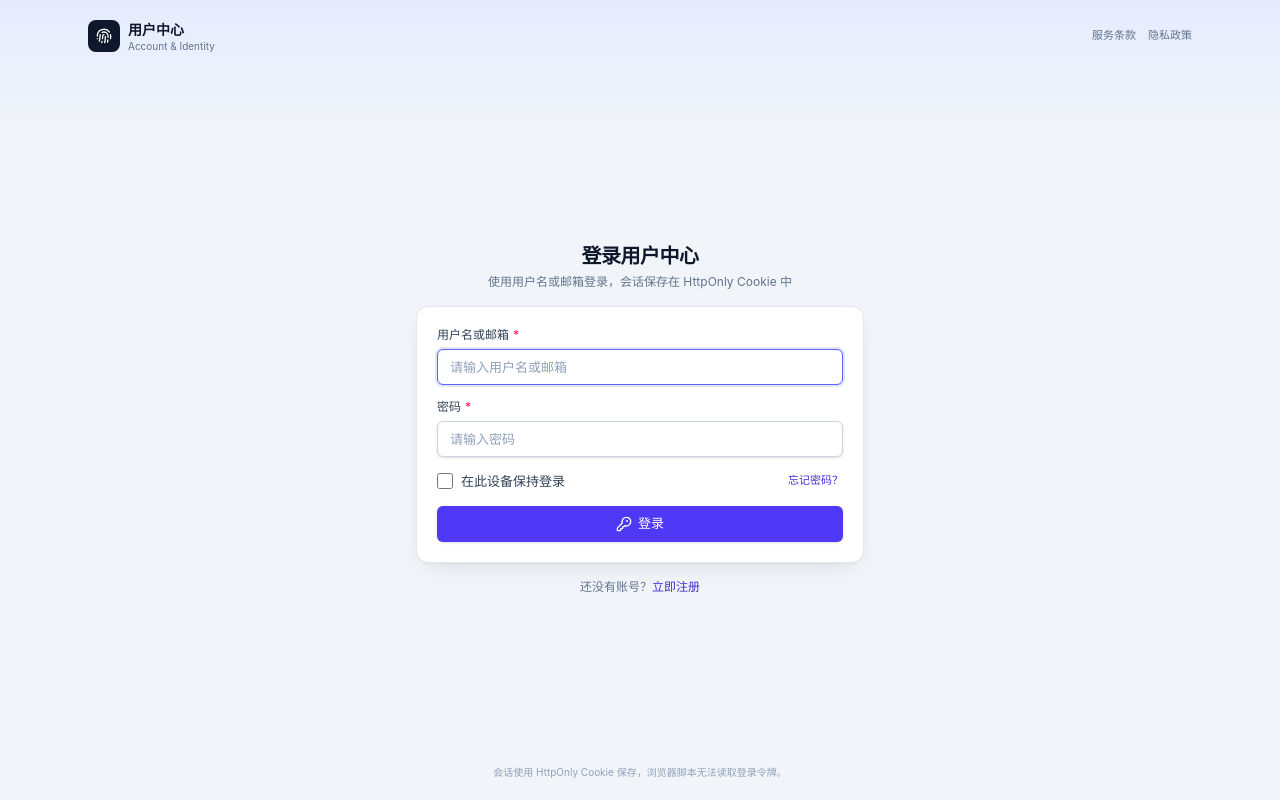
Test: recycled session feedback › is shown when the password login reclaims sessions
Step 1. Type "alice" into the field labelled "用户名或邮箱 *" → (640, 367), box [437,349,843,385]
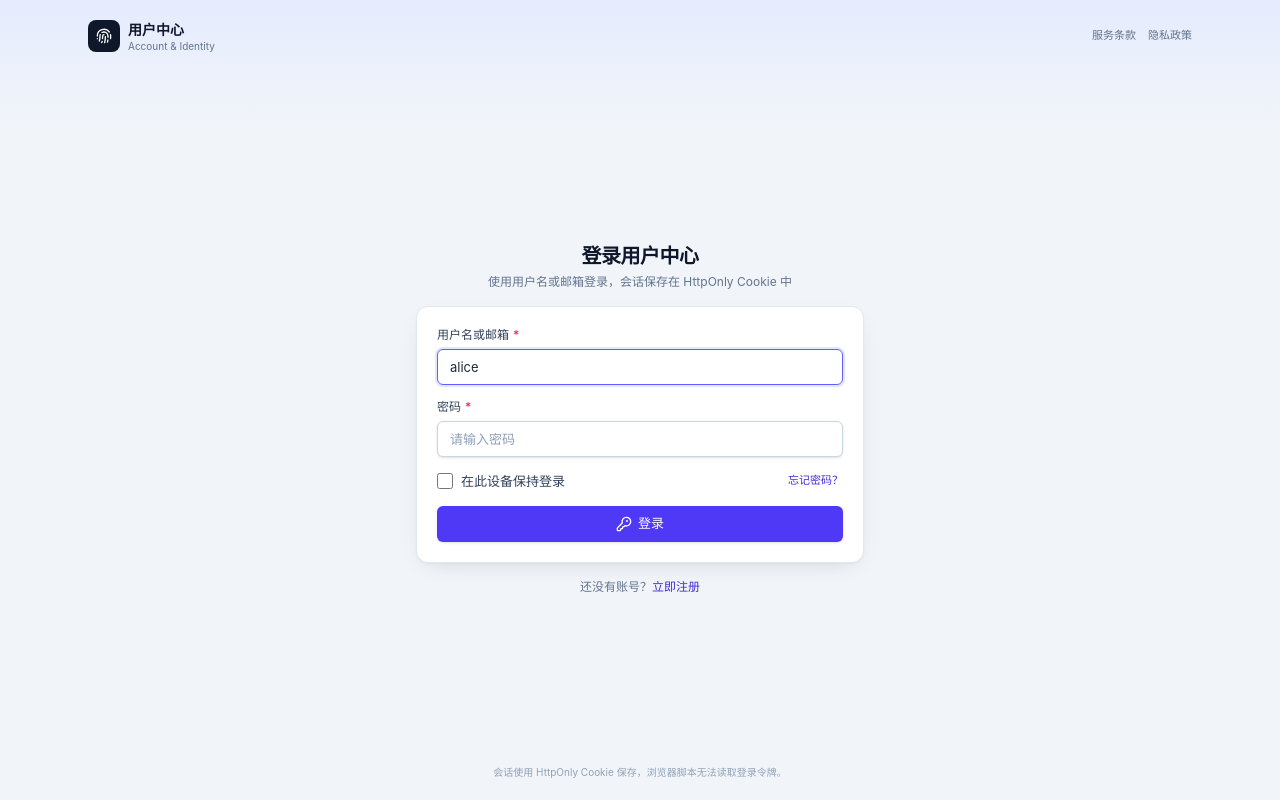
Step 2. Type "Secret-12345" into the password field labelled "密码 *" → (640, 439), box [437,421,843,457]
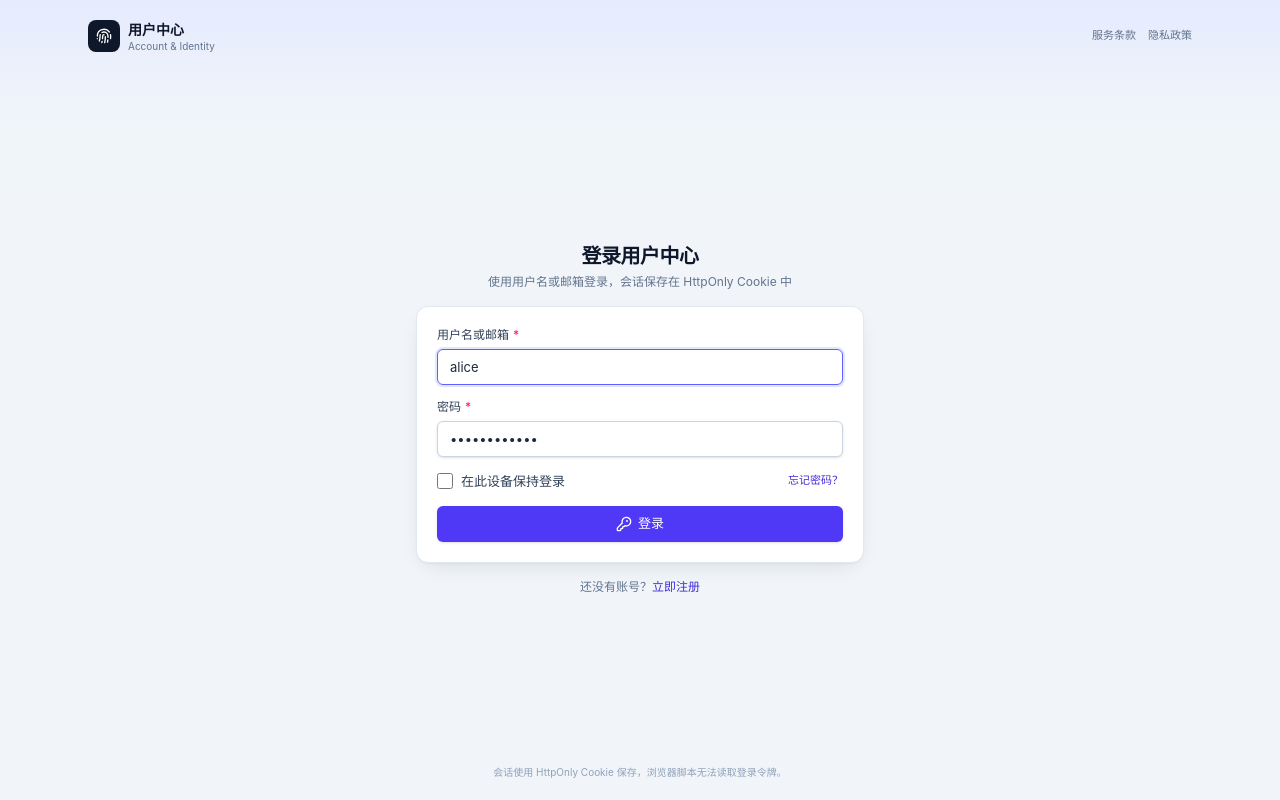
Step 3. Click the button "登录" → (640, 524), box [437,506,843,542]
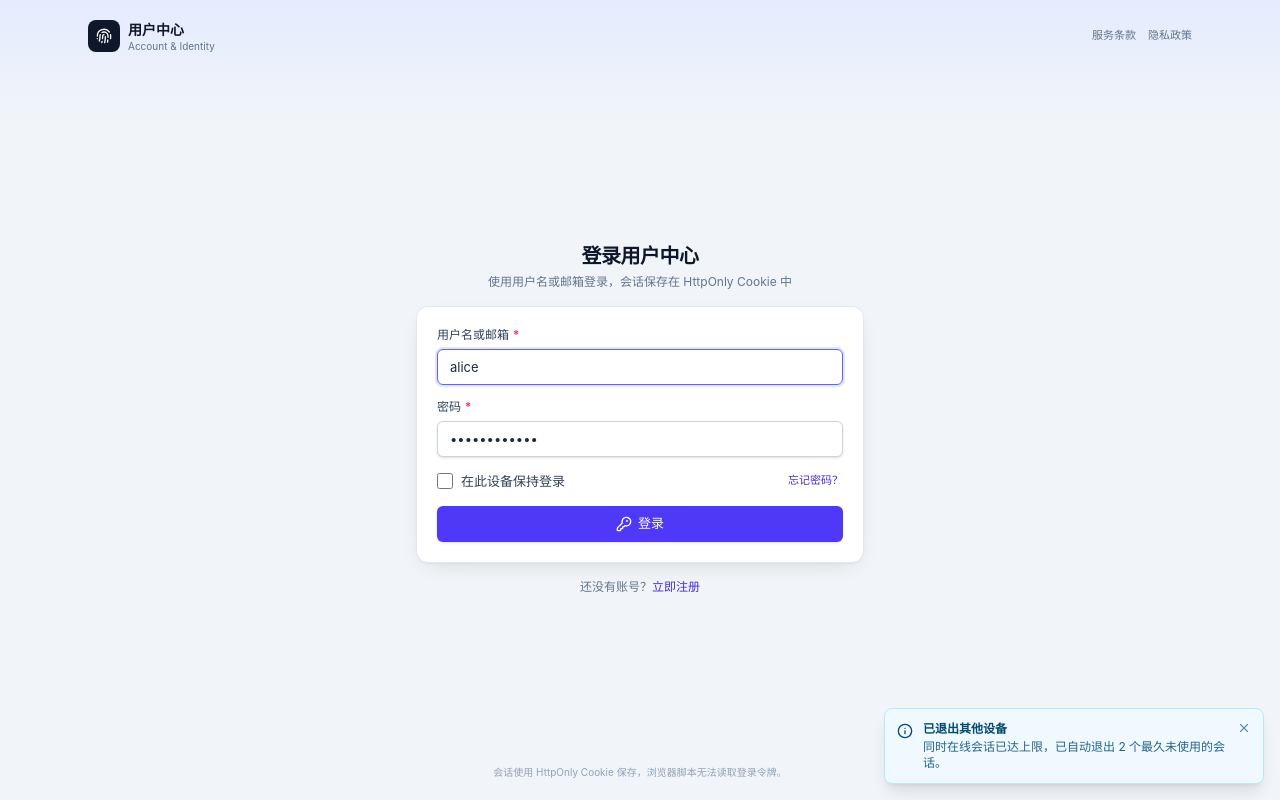
Result: the text "已退出其他设备" is shown at [923,721,1007,736]
Result: the text "同时在线会话已达上限，已自动退出 2 个最久未使用的会话。" is shown at [923,739,1227,771]
